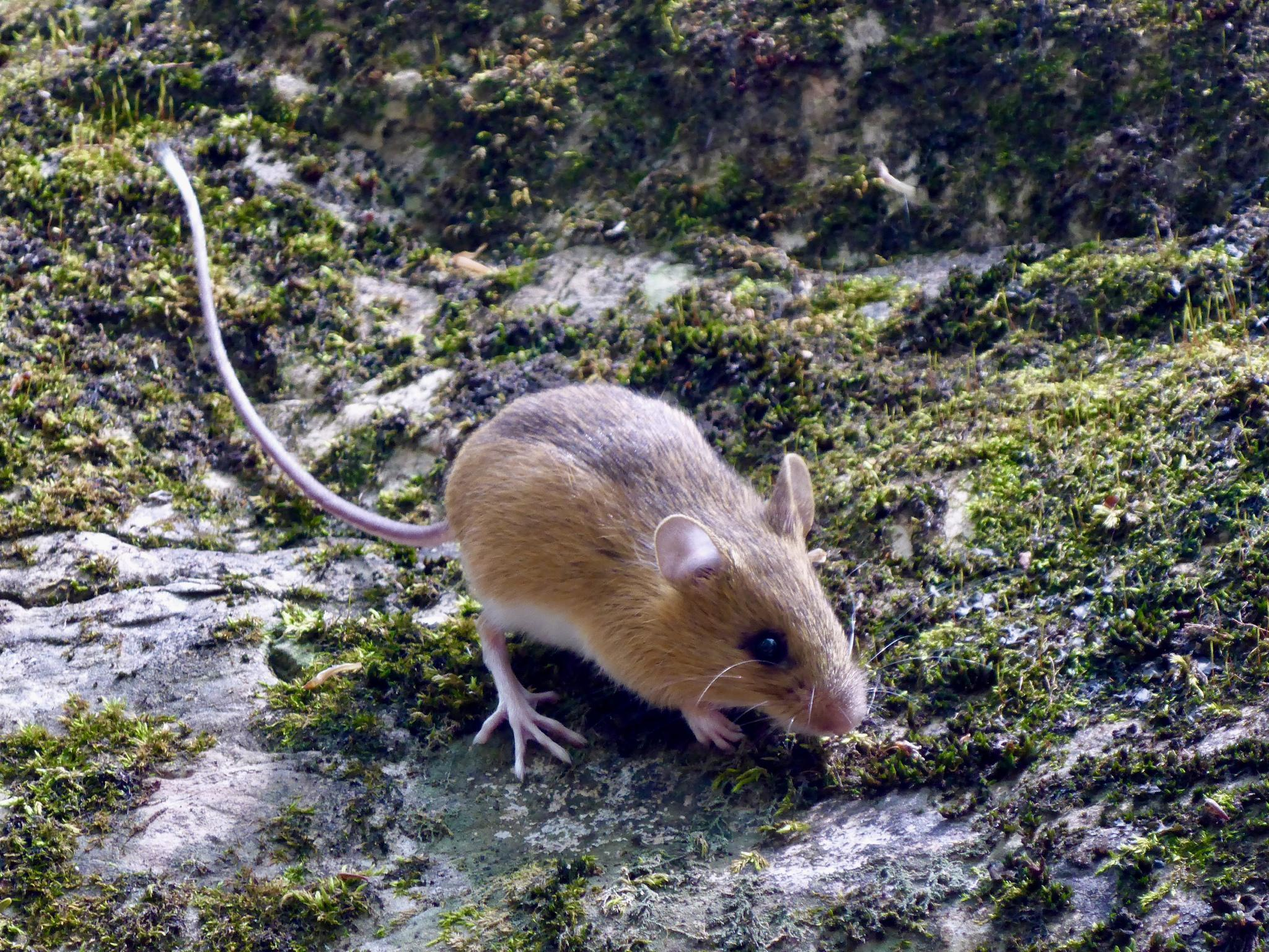rat: (154, 138, 866, 781)
